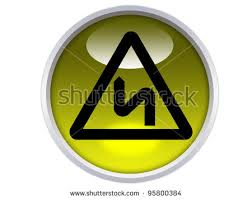Double_bend_left: (63, 22, 202, 144)
